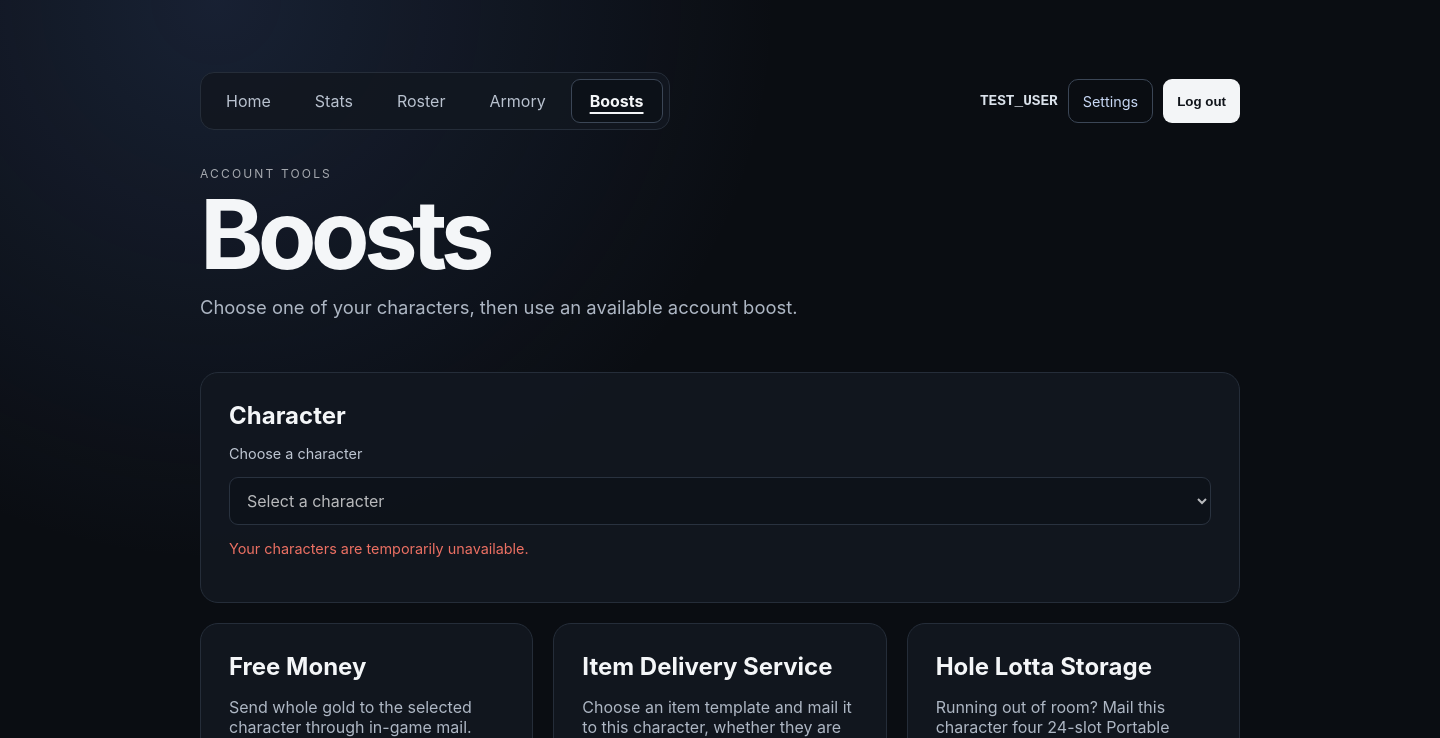
it: portal authentication experience › logs out with the in-memory CSRF token and clears protected state
The image size is (1440, 738).
Expected: the heading "Boosts" is shown, [200, 176, 489, 292]
Expected: the link "Roster" is shown, [397, 91, 445, 111]
What coordinates should you click on to do the following:
click the button "Log out"
I would click on:
 (1202, 101)
Its box is [1163, 79, 1240, 123].
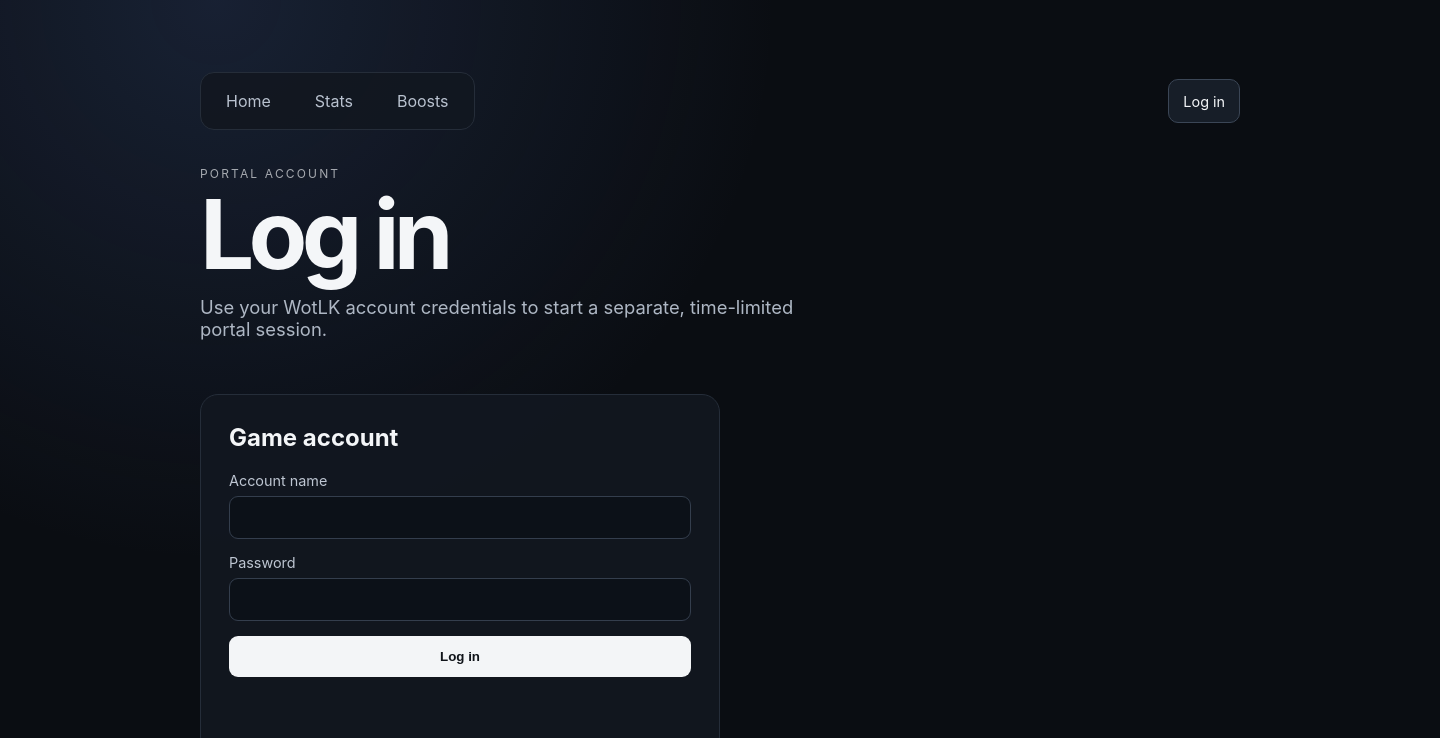
Expected: the heading "Log in" is shown, [200, 176, 448, 292]
Expected: the link "Roster" is gone
